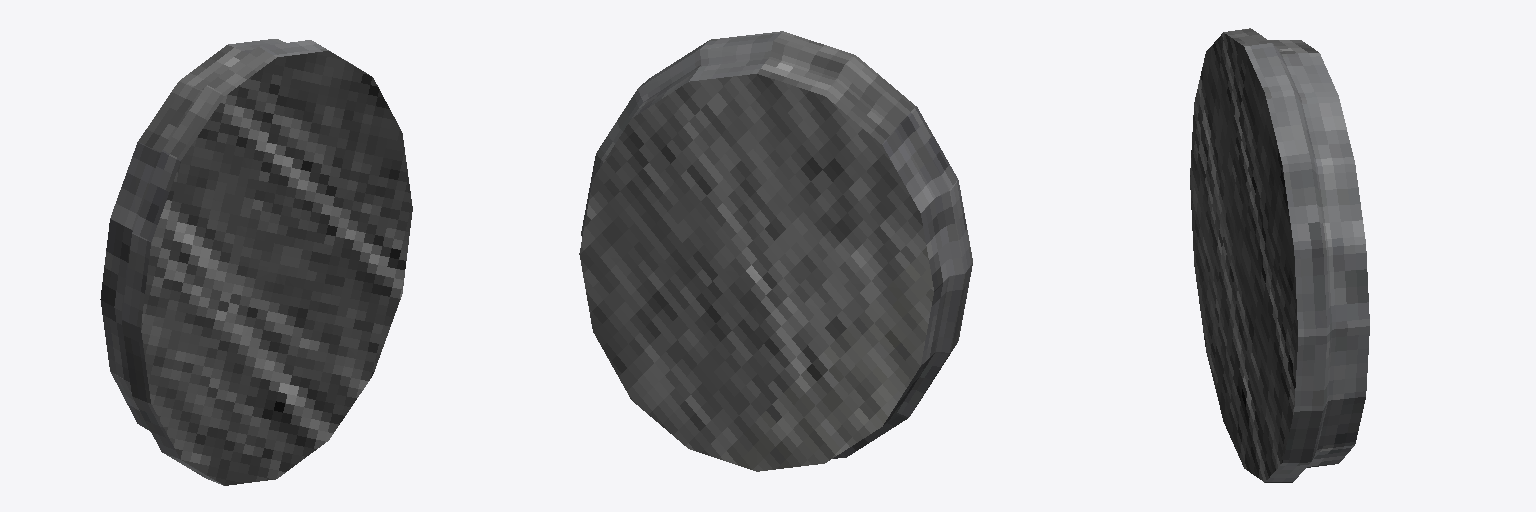
3 renders of one model, left to right at view 1: azimuth 30°, elevation 25°; view 2: azimuth 150°, elevation 25°; view 3: azimuth 270°, elevation 25°, orthographic.
Parts seen in each view (by area): view 1: LlantaIzq8; view 2: LlantaIzq8; view 3: LlantaIzq8.
Part boxes in pixels (bbox=[...]): LlantaIzq8: bbox=[100, 39, 412, 485]; LlantaIzq8: bbox=[579, 31, 972, 471]; LlantaIzq8: bbox=[1190, 28, 1369, 482].
Size of the model in its own units: 0.2179 by 0.2666 by 0.1024.
1 materials, 1 textured.